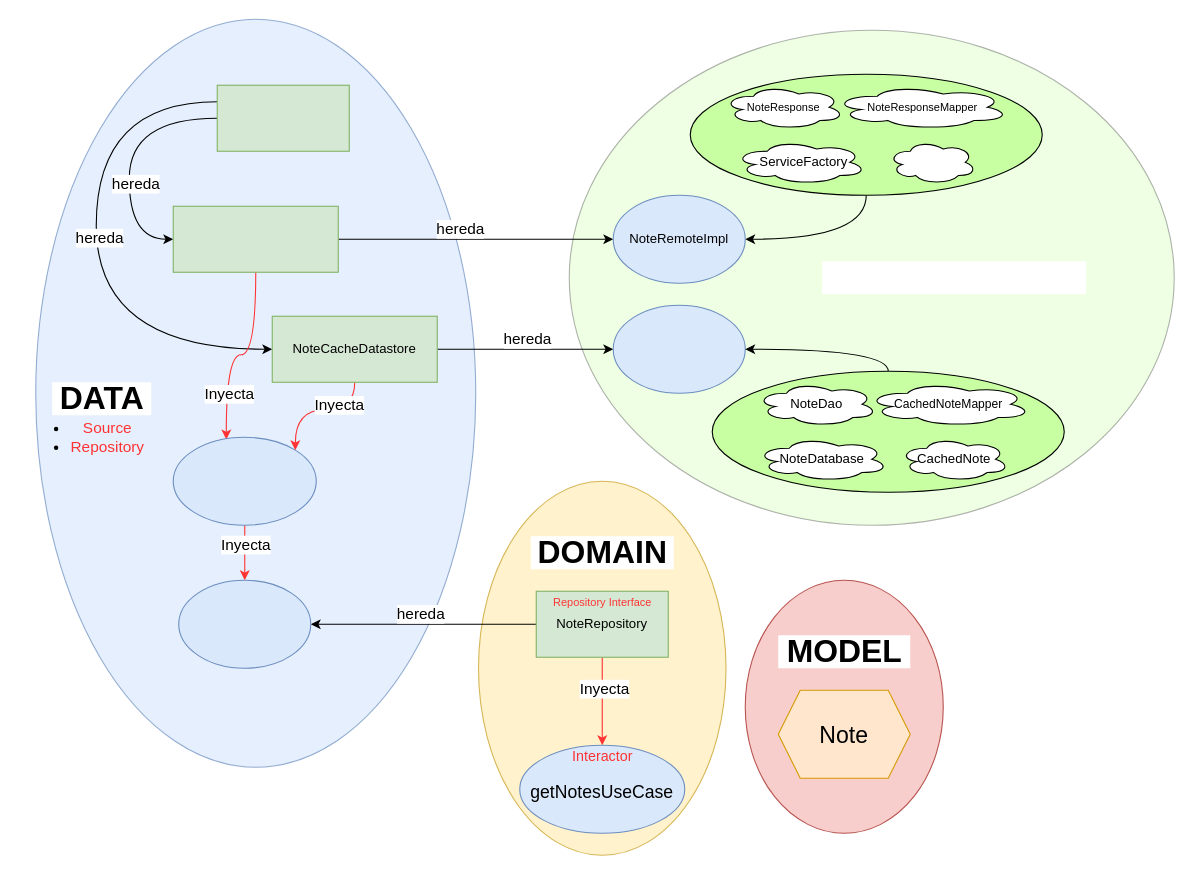
This 1194x875 diagram has some shape labels left out. Here are the shapes that lost their labels. From the top down, the centre of each, then its label:
(x=282, y=117): NoteDataStore
(x=931, y=161): Service
(x=255, y=238): NoteRemoteDatastore
(x=954, y=277): DATASOURCES
(x=678, y=348): NoteCacheImpl
(x=244, y=480): NoteDataStoreFactory
(x=244, y=623): NoteDataRepository
